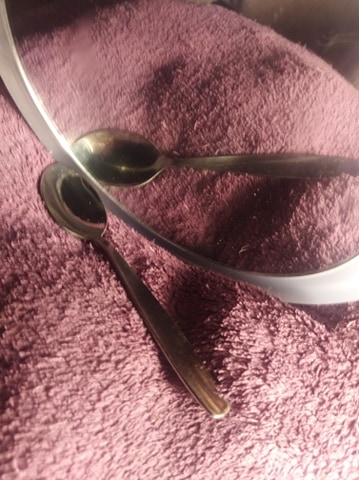Lyzka: (65, 121, 172, 190), (38, 161, 114, 248)
